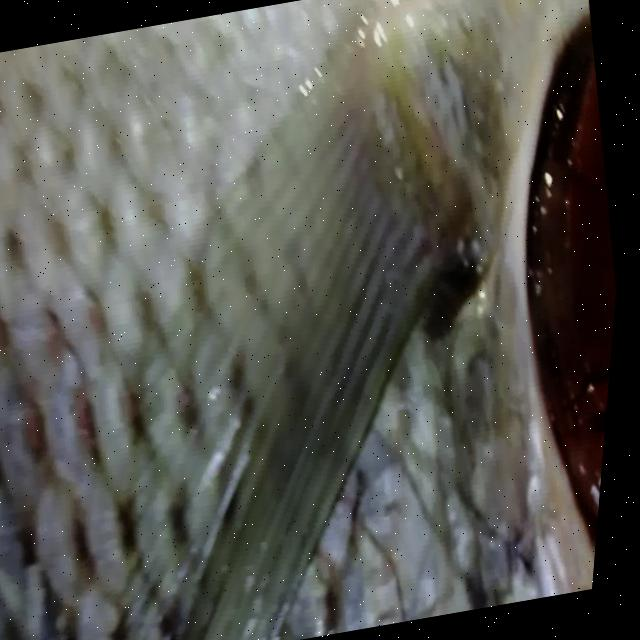Fresh: (458, 0, 640, 595)
